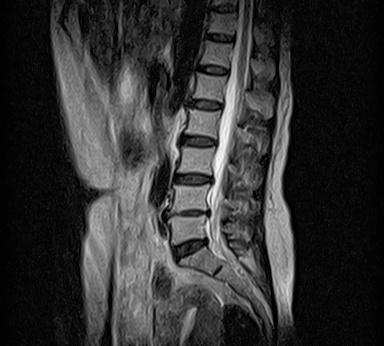L1,v2: (187, 74, 229, 98)
L1-L2,v1: (185, 93, 227, 117)
L2,v2: (180, 109, 222, 133)
L2-L3,v3: (179, 130, 221, 154)
L3,v2: (176, 148, 218, 172)
L3-L4,: (172, 167, 214, 191)
L4,v2: (167, 184, 209, 208)
L4-L5,v4: (169, 201, 211, 225)
L5,v2: (165, 218, 207, 242)
L5-S1,v3: (169, 236, 211, 260)
T12-L1,v1: (195, 58, 237, 82)
